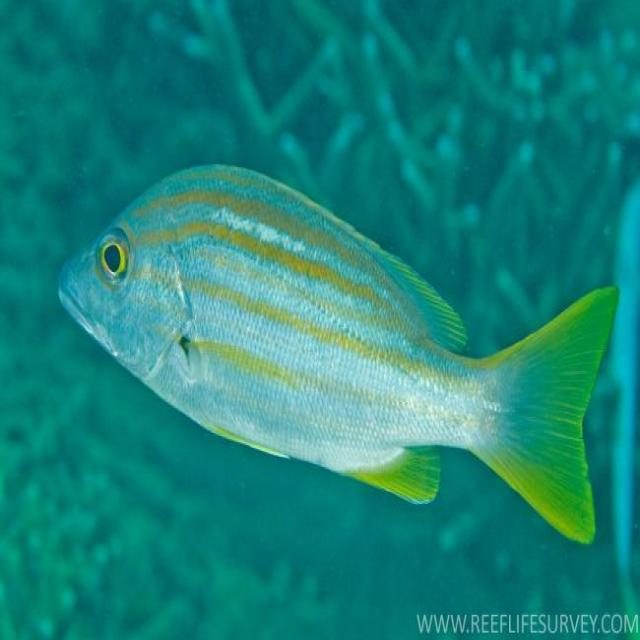ikan: (57, 161, 619, 546)
